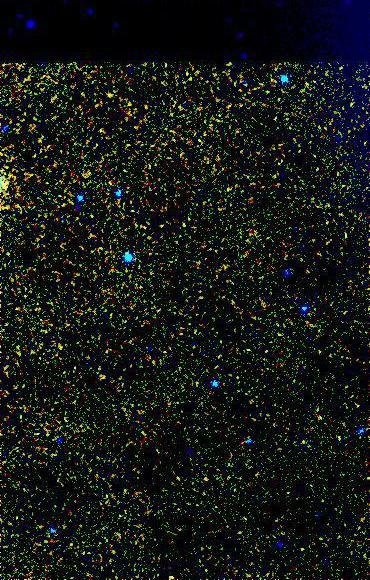star: (95, 78, 125, 108)
